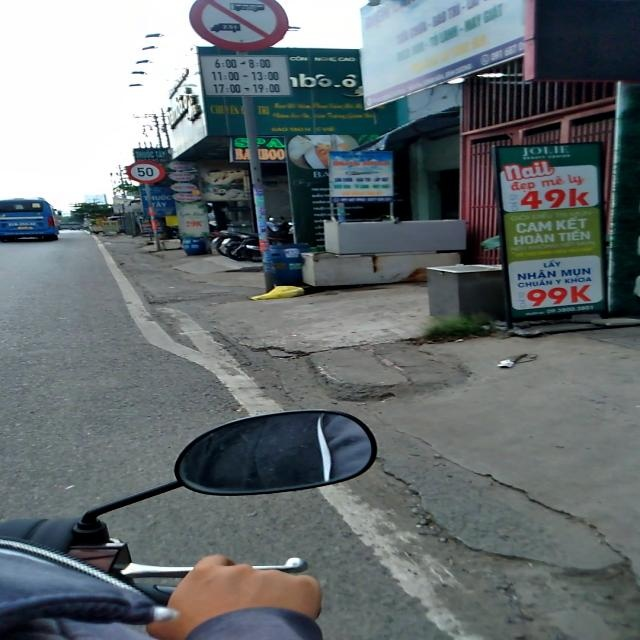bien_cam: (126, 160, 165, 184)
